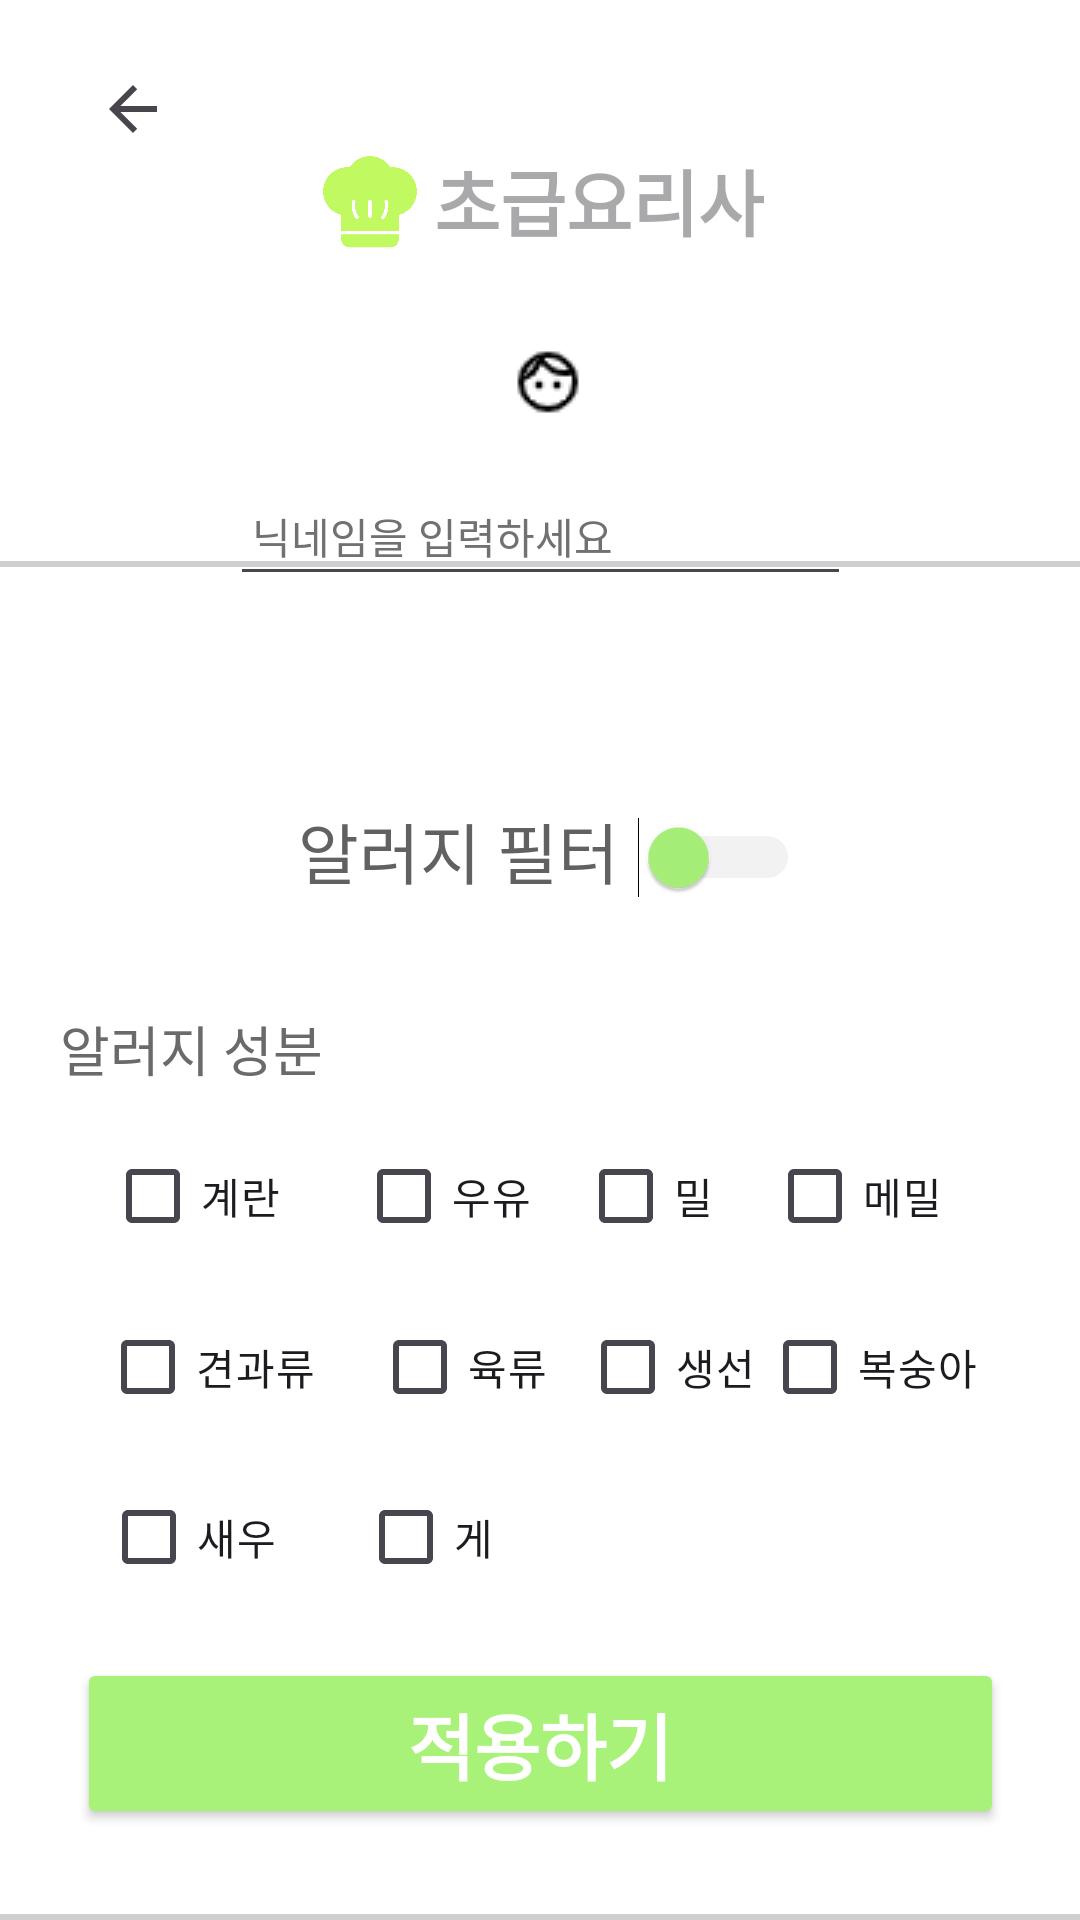

Locate icon controls on the screen. Image size 1080×1920, boxes as box(x1, y1, x2, y2).
chefhat: box(323, 156, 417, 248)
profile: box(517, 351, 579, 413)
